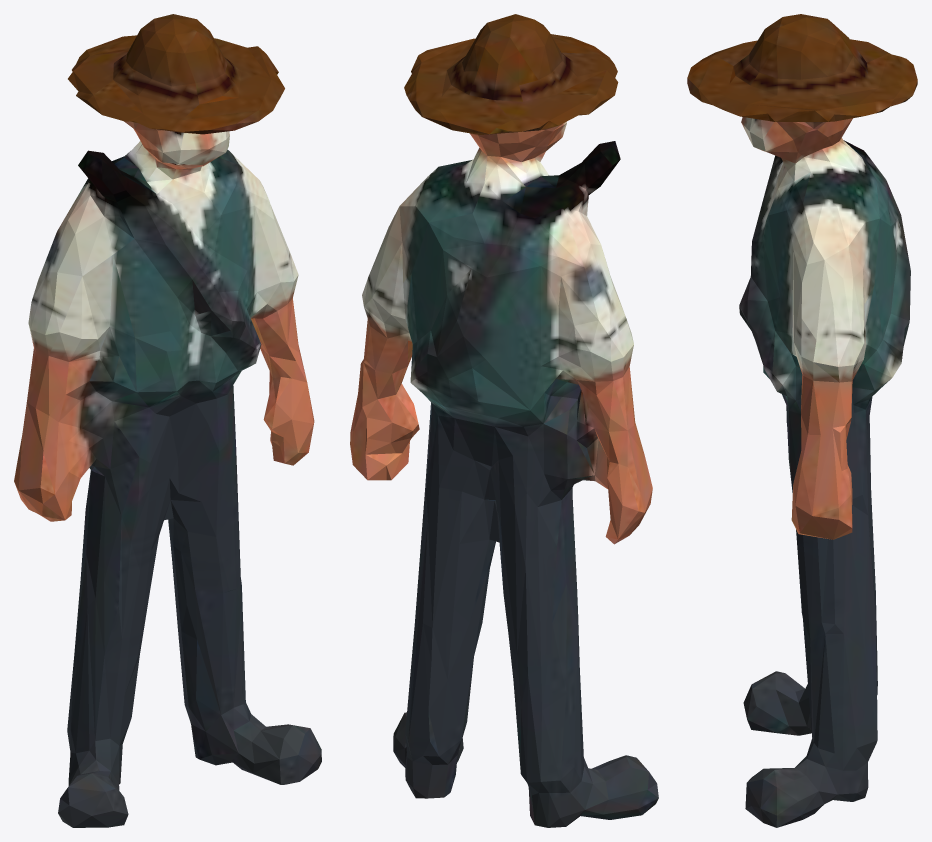
The model's file is habitant-loin.glb.
The picture shows the model from 3 angles, left to right: view 1: azimuth 30°, elevation 25°; view 2: azimuth 150°, elevation 25°; view 3: azimuth 270°, elevation 25°; orthographic projection. The views are drawn at different scales.
Parts seen in each view (by area): view 1: habitant; view 2: habitant; view 3: habitant.
Boxes of the visible parts, left/top/right/bottom form: habitant: left=14, top=14, right=321, bottom=827; habitant: left=350, top=14, right=658, bottom=827; habitant: left=687, top=14, right=917, bottom=827.
Size of the model in its own units: 0.3962 by 1.01 by 0.281.
1 material, 1 textured.
